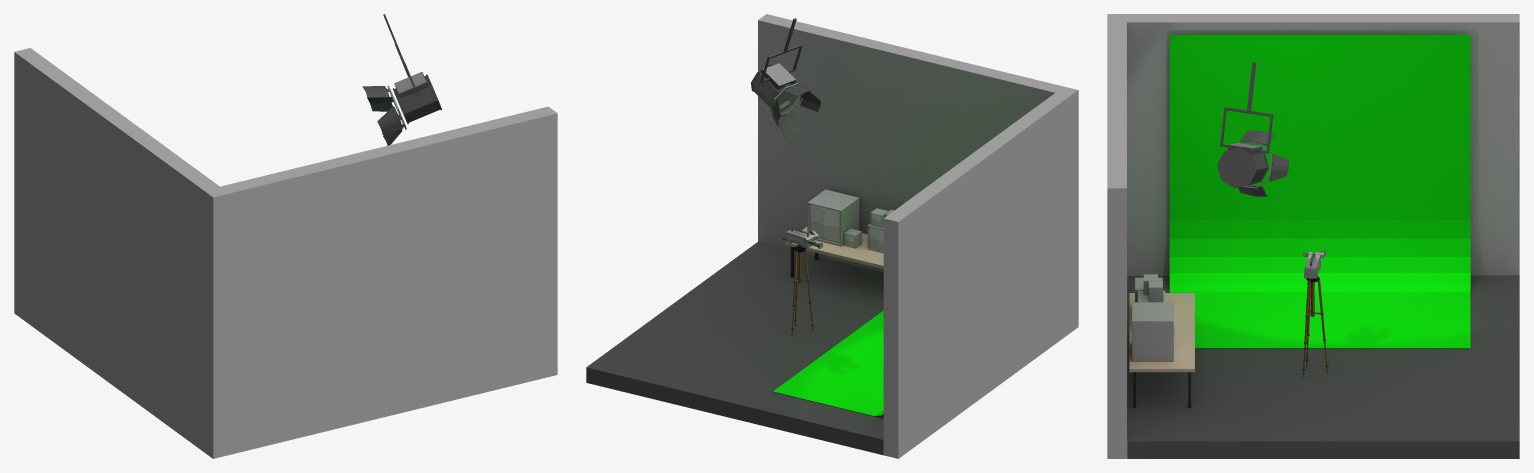
Rendered from ValLicence.fbx.
3 renders of one model, left to right at view 1: azimuth 30°, elevation 25°; view 2: azimuth 150°, elevation 25°; view 3: azimuth 270°, elevation 25°, orthographic. The views are drawn at different scales.
Parts seen in each view (by area): view 1: RoomTextured; view 2: RoomTextured; view 3: RoomTextured.
Part boxes in pixels (bbox=[...]): RoomTextured: bbox=[14, 14, 557, 458]; RoomTextured: bbox=[586, 14, 1078, 458]; RoomTextured: bbox=[1107, 14, 1519, 458].
Bounding box in the file's own units: 1471 × 1359 × 1471.
Materials: 1 (1 with a texture image).
